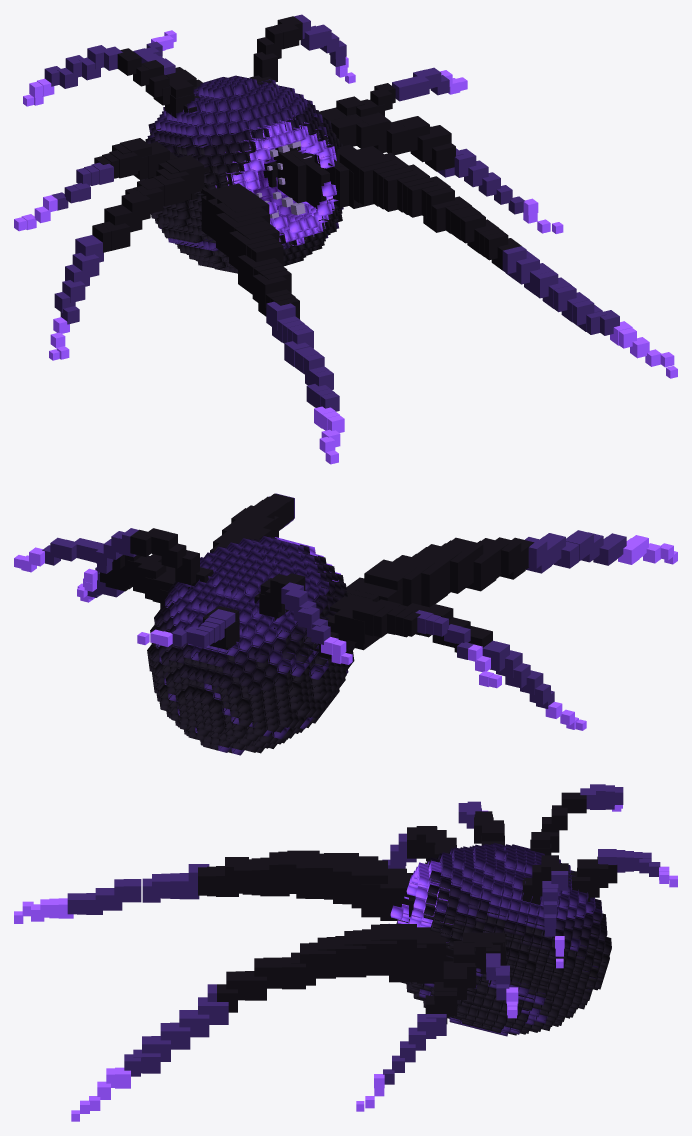
Rendered from cosmic-horror_purple.glb.
3 renders of one model, top to bottom at view 1: azimuth 30°, elevation 25°; view 2: azimuth 150°, elevation 25°; view 3: azimuth 270°, elevation 25°, orthographic. The views are drawn at different scales.
Visible parts, largest first — view 1: body_voxels, gullet_voxels, tentacle_1_vox_0, tentacle_1_vox_7, tentacle_2_vox_4, tentacle_0_vox_13, tentacle_0_vox_10, tentacle_0_vox_23, tentacle_0_vox_16, tentacle_1_vox_8, tentacle_3_vox_9; view 2: body_voxels, tentacle_0_vox_13, tentacle_0_vox_16, tentacle_0_vox_10, tentacle_0_vox_11, tentacle_0_vox_19, tentacle_0_vox_23, tentacle_2_vox_16, tentacle_4_vox_9, tentacle_0_vox_27, tentacle_5_vox_8, tentacle_7_vox_11 (+8 smaller); view 3: body_voxels, gullet_voxels, tentacle_1_vox_9, tentacle_0_vox_10, tentacle_1_vox_6, tentacle_1_vox_12, tentacle_1_vox_4, tentacle_0_vox_7, tentacle_0_vox_14, tentacle_0_vox_9, tentacle_1_vox_15, tentacle_1_vox_7 (+10 smaller).
Part boxes in pixels (left/top/right/bottom): body_voxels: left=140, top=75, right=343, bottom=273; gullet_voxels: left=215, top=115, right=338, bottom=245; tentacle_1_vox_0: left=277, top=149, right=306, bottom=203; tentacle_1_vox_7: left=339, top=146, right=392, bottom=202; tentacle_2_vox_4: left=166, top=155, right=204, bottom=193; tentacle_0_vox_13: left=216, top=213, right=265, bottom=256; tentacle_0_vox_10: left=217, top=191, right=269, bottom=213; tentacle_0_vox_23: left=252, top=274, right=286, bottom=307; tentacle_0_vox_16: left=229, top=231, right=275, bottom=269; tentacle_1_vox_8: left=359, top=160, right=396, bottom=205; tentacle_3_vox_9: left=386, top=121, right=408, bottom=154; body_voxels: left=147, top=536, right=355, bottom=755; tentacle_0_vox_13: left=412, top=553, right=447, bottom=607; tentacle_0_vox_16: left=441, top=543, right=474, bottom=593; tentacle_0_vox_10: left=364, top=559, right=416, bottom=590; tentacle_0_vox_11: left=393, top=558, right=429, bottom=606; tentacle_0_vox_19: left=466, top=549, right=496, bottom=591; tentacle_0_vox_23: left=495, top=537, right=521, bottom=574; tentacle_2_vox_16: left=482, top=640, right=509, bottom=671; tentacle_4_vox_9: left=352, top=601, right=384, bottom=636; tentacle_0_vox_27: left=525, top=537, right=547, bottom=568; tentacle_5_vox_8: left=137, top=559, right=166, bottom=587; tentacle_7_vox_11: left=130, top=529, right=151, bottom=557; body_voxels: left=396, top=843, right=611, bottom=1036; gullet_voxels: left=389, top=859, right=452, bottom=942; tentacle_1_vox_9: left=362, top=929, right=396, bottom=975; tentacle_0_vox_10: left=351, top=860, right=387, bottom=908; tentacle_1_vox_6: left=389, top=944, right=426, bottom=982; tentacle_1_vox_12: left=335, top=936, right=366, bottom=977; tentacle_1_vox_4: left=417, top=927, right=446, bottom=978; tentacle_0_vox_7: left=380, top=873, right=415, bottom=920; tentacle_0_vox_14: left=305, top=853, right=323, bottom=898; tentacle_0_vox_9: left=361, top=868, right=397, bottom=917; tentacle_1_vox_15: left=309, top=942, right=335, bottom=978; tentacle_1_vox_7: left=380, top=924, right=416, bottom=947.
Bounding box in the file's own units: 7.65 × 2.95 × 9.09.
